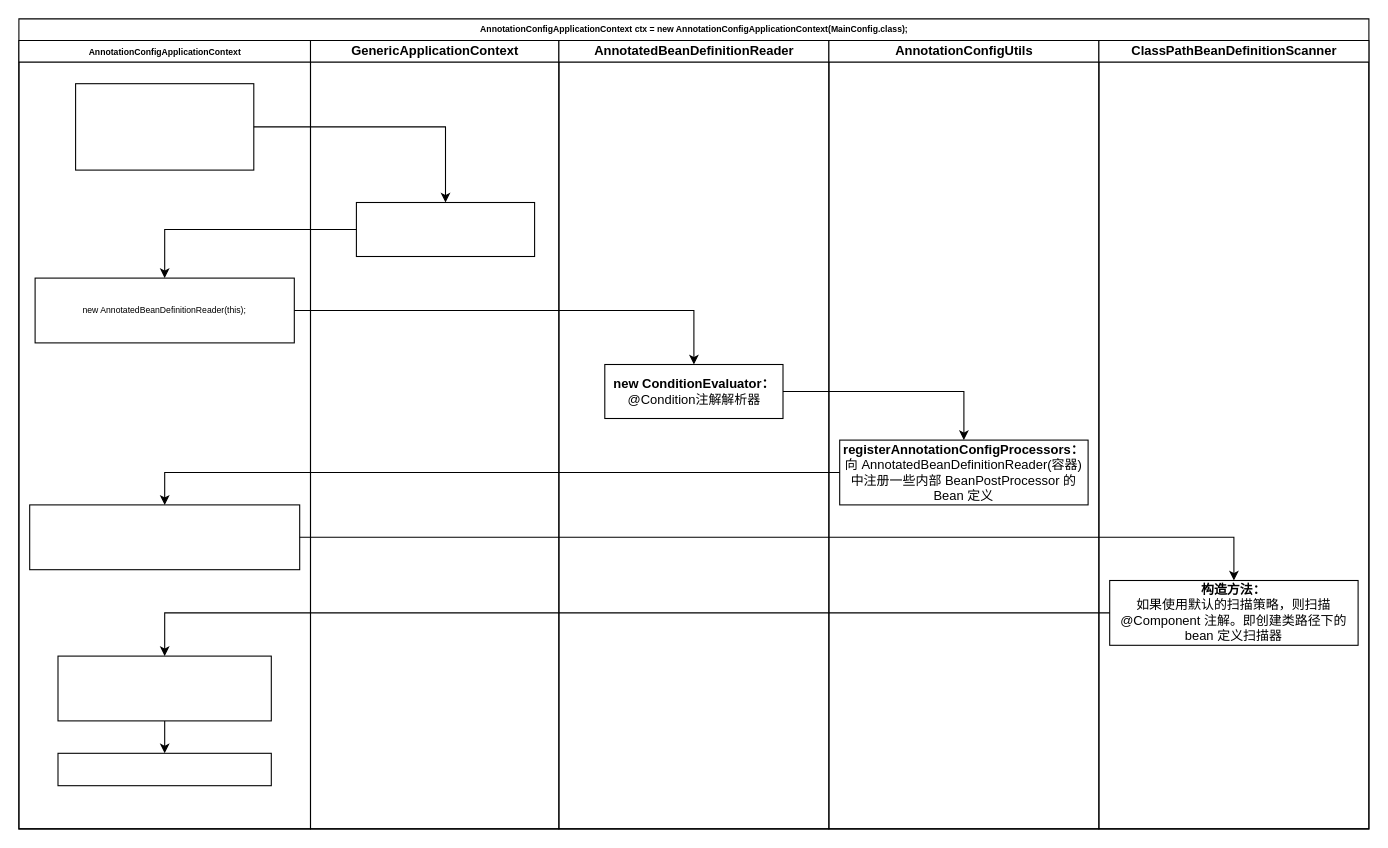
Image size: 1388x848. Some labels were removed from this diagram. The centre of each missing label's shape, as x and y in pixels:
"GenericApplicationContext的构造方法，new 了一个DefaultListableBeanFactory" belongs at [445,228].
"new ClassPathBeanDefinitionScanner(this);" belongs at [164,537].
"refresh();" belongs at [164,769].
"this()方法： 先调用父类的构造方法" belongs at [164,126].
"this.register(componentClasses); new AA这个类时可以穿进配置类，这个方法的作用就是将配置类注册到容器中" belongs at [164,688].
